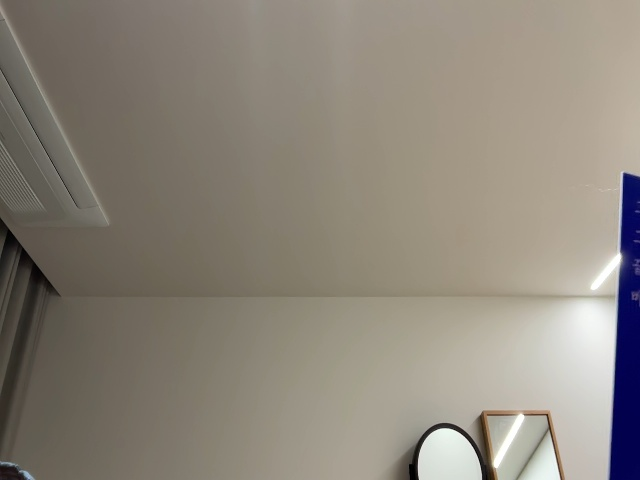card: (608, 172, 640, 480)
